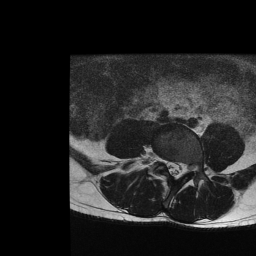CCS_normal: (171, 155, 177, 184)
LFS_normal: (183, 155, 190, 178)
LLS_normal: (177, 154, 183, 183)
RFS_stenosis: (159, 150, 165, 170)
RLS_normal: (165, 154, 171, 177)
